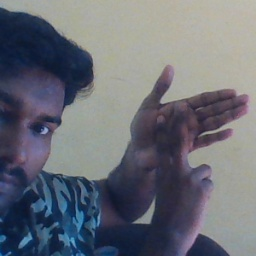N: (123, 63, 253, 205)
